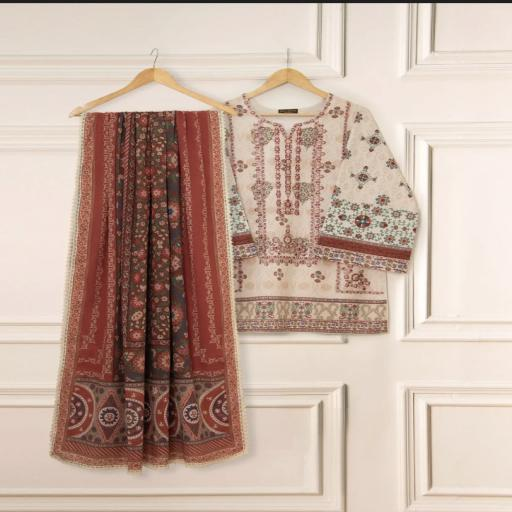Dupatta: (65, 103, 245, 483)
Kameez: (197, 90, 419, 332)
